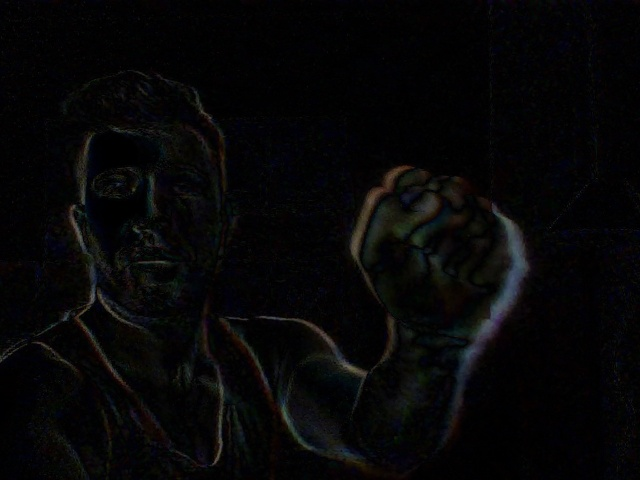hand_fi: (339, 148, 535, 345)
